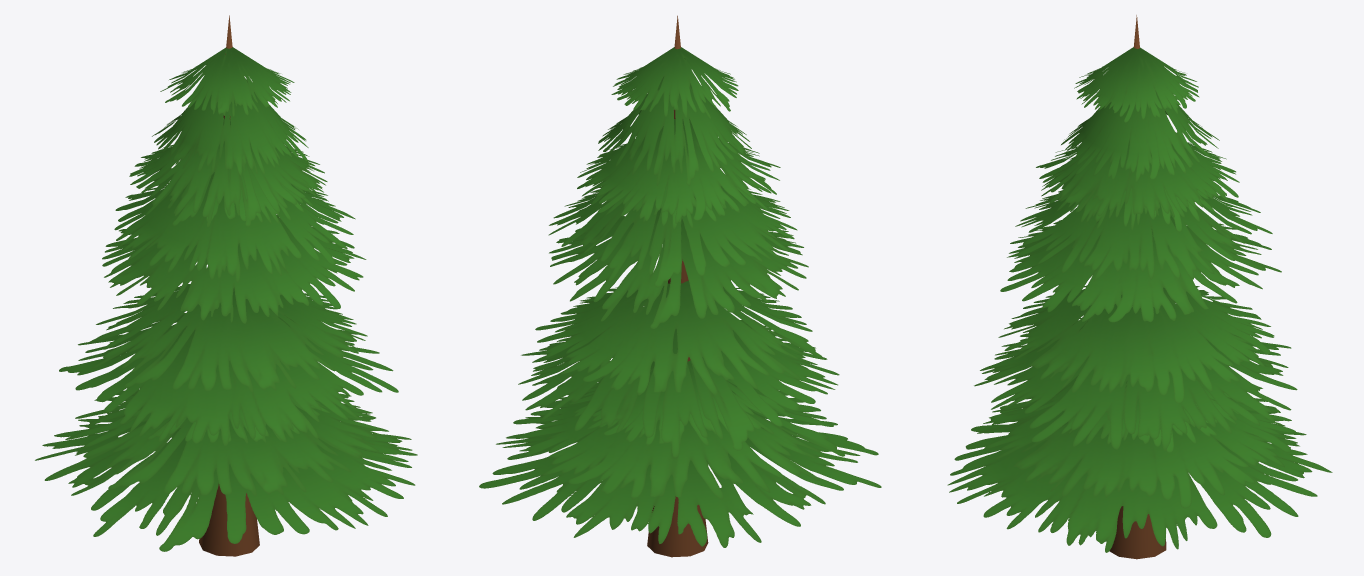
File: Pine_Tree4.fbx
3 views of the same model, side by side, from view 1: azimuth 30°, elevation 25°; view 2: azimuth 150°, elevation 25°; view 3: azimuth 270°, elevation 25° (orthographic).
Parts seen in each view (by area): view 1: pCylinder72; view 2: pCylinder72; view 3: pCylinder72.
Part boxes in pixels (left/top/right/bottom): pCylinder72: left=35, top=15, right=417, bottom=556; pCylinder72: left=479, top=15, right=881, bottom=557; pCylinder72: left=947, top=15, right=1332, bottom=559.
Size of the model in its own units: 390 by 536 by 390.
